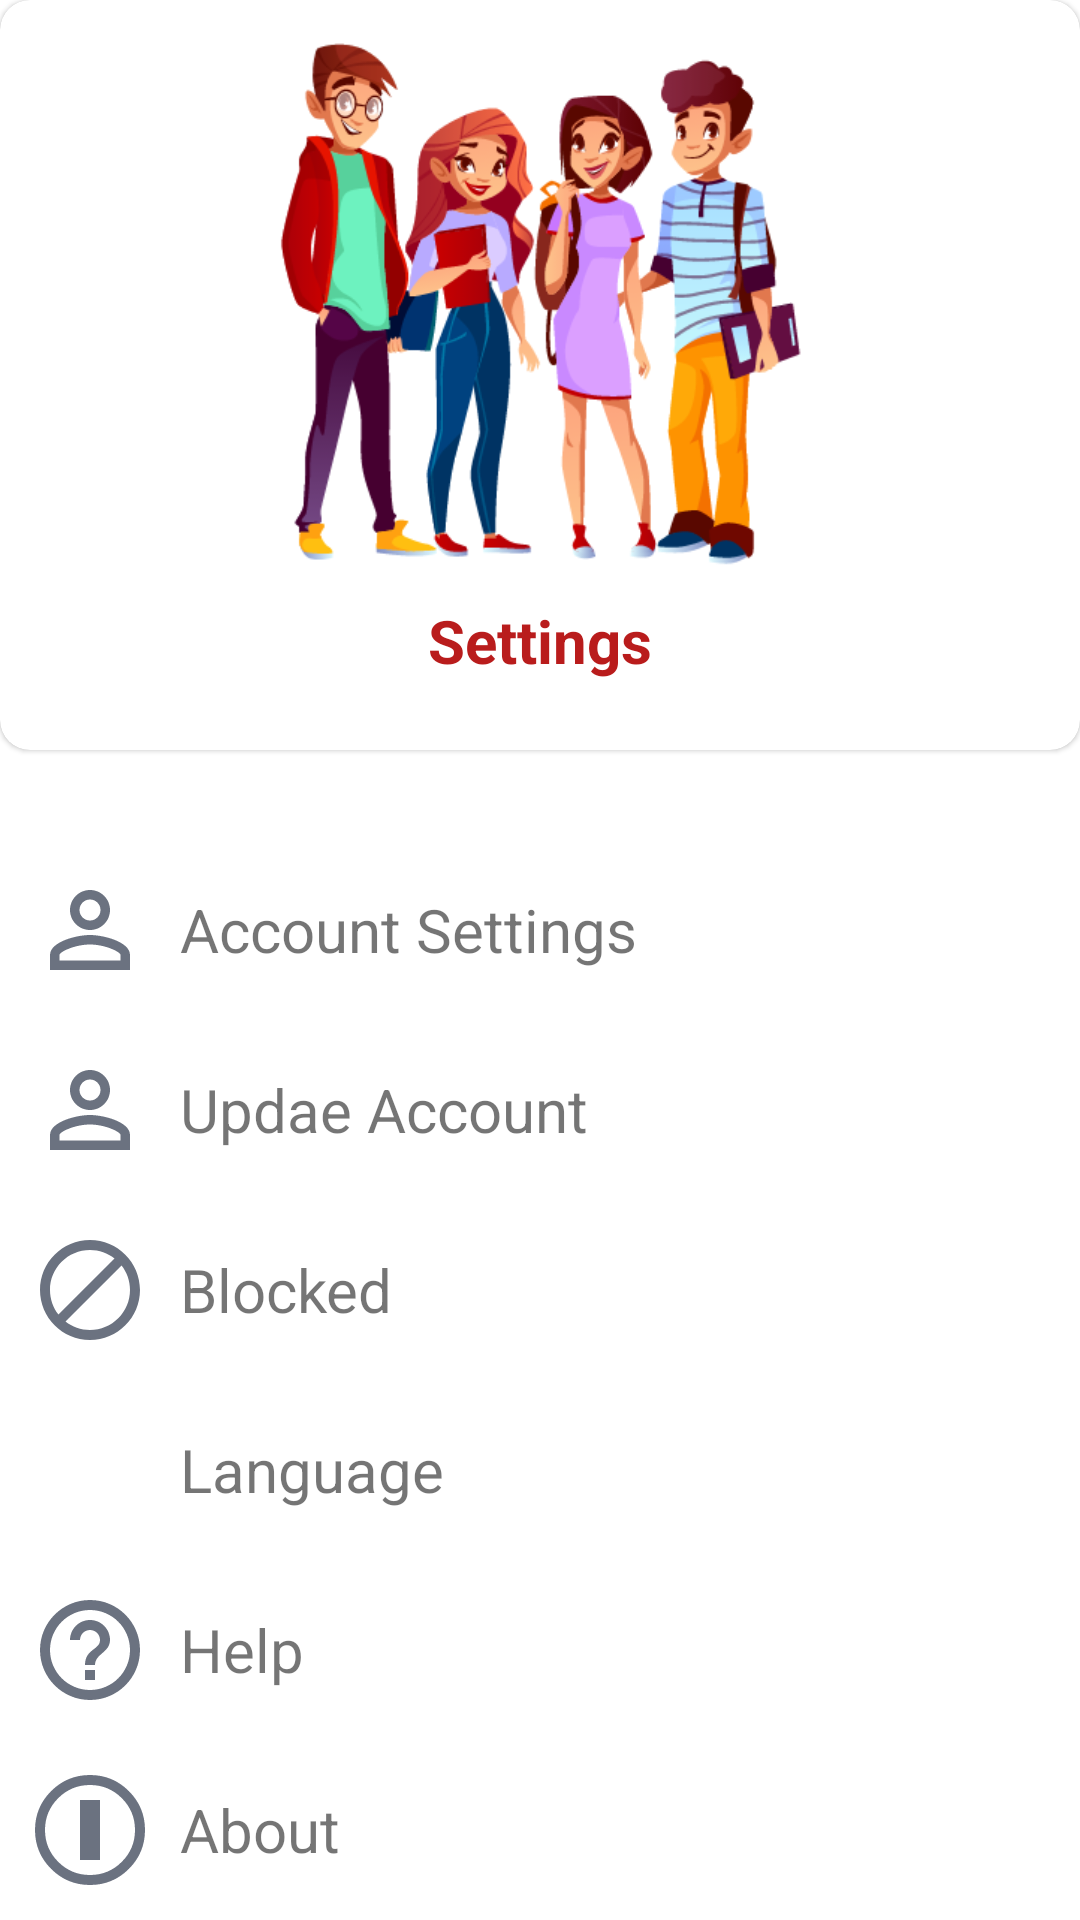

Icon click points for this 1080 × 1920 phone screenshot, format (x,y):
info: (90,1830)
person: (90,930), (90,1110)
